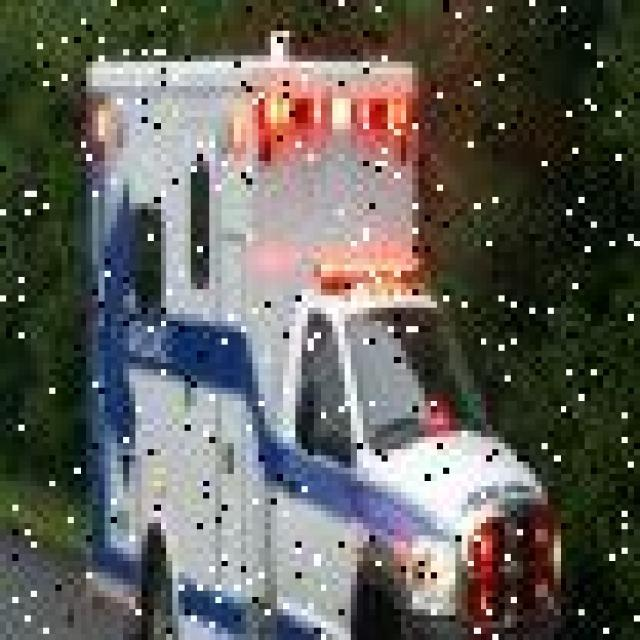emergency-vehicle: (80, 52, 591, 637)
